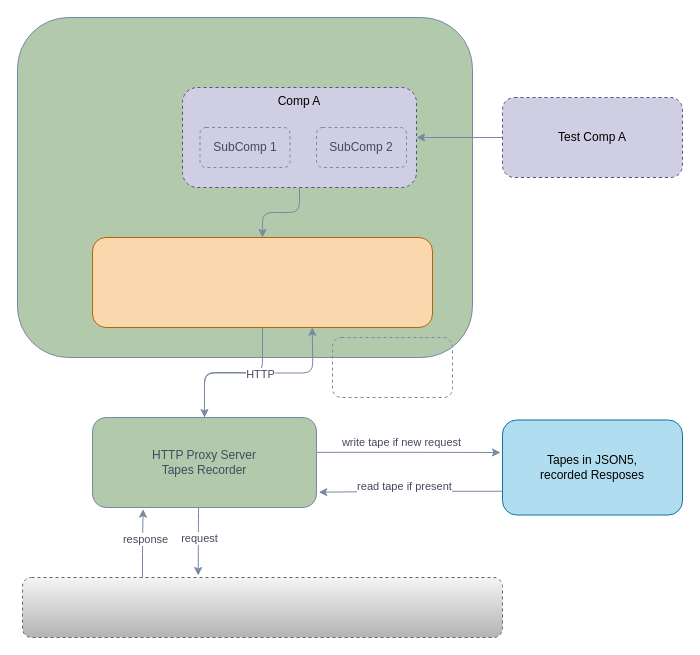
Some shapes in this 700 by 655 pixel diagram are drawn without their labels. The shapes that lost their labels are listed below. From the top down, each one's box as (x1, y1, x2, y2) in pixels, then its label:
(16, 16, 472, 358): Front End
(92, 236, 432, 328): HTTP Service Logic
(22, 576, 502, 638): Back End (Primary Data Source)
